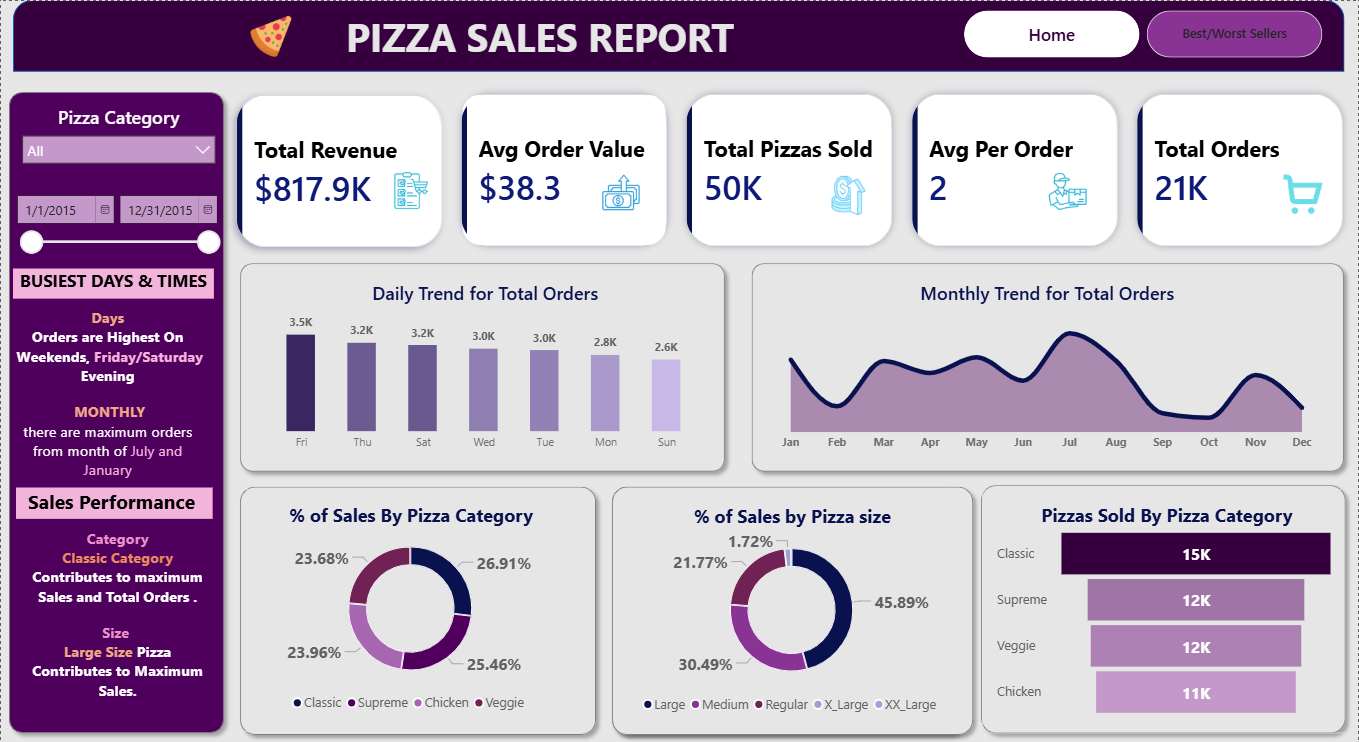

This screenshot's page, from the dashboard's own definition file:
{"tool":"powerbi","page":{"name":"Home","canvas":[1500,820],"ordinal":0},"visuals":[{"type":"shape","box":[0,92.8,255.3,726.1],"z":0},{"type":"shape","box":[255.5,282.1,553.6,248.4],"z":0,"group":"g1"},{"type":"shape","box":[819.8,282.1,672.5,248.4],"z":0,"group":"g2"},{"type":"textbox","box":[12.8,297.2,222.1,33.2],"z":0,"group":"g7"},{"type":"shape","box":[1073.4,526.3,420.7,292.4],"z":0,"group":"g5"},{"type":"shape","box":[254.7,528.2,411.3,292.4],"z":0,"group":"g3"},{"type":"shape","box":[666,528.2,407.5,292.4],"z":0,"group":"g4"},{"type":"shape","box":[666,528.2,416.9,292.4],"z":0,"group":"g6"},{"type":"textbox","box":[16.7,539.2,217.2,34.8],"z":0,"group":"g8"},{"type":"cardVisual","fields":{"Data":["Table.Total Revenue","Table.Avg Order Value","Table.Total Pizzas Sold","Table.Avg Pizzas Per Order","Table.Total Orders"]},"box":[249,92.4,1245.1,190.5],"z":1000},{"type":"columnChart","title":"Daily Trend for Total Orders ","fields":{"Category":["pizza_sales.Day Short"],"Y":["Table.Total Orders"]},"box":[272.5,295.3,525.3,223.7],"z":1000,"group":"g1"},{"type":"stackedAreaChart","title":"Monthly Trend for Total Orders ","fields":{"Category":["pizza_sales.Month Name EN"],"Y":["Table.Total Orders"]},"box":[834.9,295.3,640.2,223.7],"z":1000,"group":"g2"},{"type":"textbox","box":[8.3,340,223.8,191.4],"z":1000,"group":"g7"},{"type":"funnel","title":"Pizzas Sold By Pizza Category ","fields":{"Y":["Table.Total Pizzas Sold"],"Category":["pizza_sales.pizza_category"]},"box":[1083.9,538.9,407.5,269.8],"z":1000,"group":"g5"},{"type":"donutChart","title":"% of Sales By Pizza Category ","fields":{"Category":["pizza_sales.pizza_category"],"Y":["Table.Total Revenue"]},"box":[254.7,539.5,394.6,267.9],"z":1000,"group":"g3"},{"type":"donutChart","title":"% of Sales by Pizza size ","fields":{"Y":["Table.Total Revenue"],"Category":["pizza_sales.pizza_size"]},"box":[685,541,378.7,267.9],"z":1000,"group":"g6"},{"type":"textbox","box":[26,584.6,205,203.7],"z":1000,"group":"g8"},{"type":"shape","box":[13.2,0,1471.5,79.2],"z":2000},{"type":"textbox","box":[381.1,11.3,533.9,56.6],"z":3000},{"type":"image","box":[271.7,17,52.8,47.2],"z":4000},{"type":"group","id":"g1","title":"Group 1","box":[255.5,282.1,553.6,248.4],"z":5000},{"type":"group","id":"g2","title":"Group 2","box":[819.8,282.1,672.5,248.4],"z":6000},{"type":"group","id":"g3","title":"Group 1","box":[254.7,528.2,411.3,292.4],"z":7000},{"type":"group","id":"g4","title":"Group 1","box":[666,528.2,407.5,292.4],"z":8000},{"type":"group","id":"g5","title":"Group 1","box":[1073.4,526.3,420.7,292.4],"z":9000},{"type":"group","id":"g6","title":"Group 1","box":[666,528.2,416.9,292.4],"z":10000},{"type":"group","id":"g7","title":"Group 3","box":[8.3,297.2,226.6,234.2],"z":11000},{"type":"group","id":"g8","title":"Group 3","box":[16.7,539.2,217.2,249.1],"z":12000},{"type":"slicer","title":"Pizza Category","fields":{"Values":["pizza_sales.pizza_category"]},"box":[18.2,116,223.8,72.9],"z":13000},{"type":"slicer","title":"Pizza Category","fields":{"Values":["pizza_sales.order_date"]},"box":[9.9,210.5,235.4,82.9],"z":14000},{"type":"image","box":[1418.7,20.8,41.5,37.7],"z":15000},{"type":"image","box":[1084.8,17,32.1,37.7],"z":16000},{"type":"pageNavigator","box":[1064,11.3,396.2,52.8],"z":17000},{"type":"image","box":[649,188.7,73.6,47.2],"z":18000},{"type":"image","box":[432,188.7,41.5,43.4],"z":19000},{"type":"image","box":[1156.5,169.8,43.4,84.9],"z":20000},{"type":"image","box":[915,177.3,43.4,77.3],"z":21000},{"type":"image","box":[1416.8,188.7,43.4,50.9],"z":22000}]}

Visuals, with their boxes in screenshot pixels (x1, y1, x2, y2), scaled from the page's 1500x820 canvas onto the 1359x742 screenshot:
shape: x1=0, y1=84, x2=231, y2=741
shape: x1=231, y1=255, x2=733, y2=480
shape: x1=743, y1=255, x2=1352, y2=480
textbox: x1=12, y1=269, x2=213, y2=299
shape: x1=973, y1=476, x2=1354, y2=741
shape: x1=231, y1=478, x2=603, y2=741
shape: x1=603, y1=478, x2=973, y2=741
shape: x1=603, y1=478, x2=981, y2=741
textbox: x1=15, y1=488, x2=212, y2=519
cardVisual - Table.Total Revenue x Table.Avg Order Value: x1=226, y1=84, x2=1354, y2=256
"Daily Trend for Total Orders " columnChart: x1=247, y1=267, x2=723, y2=470
"Monthly Trend for Total Orders " stackedAreaChart: x1=756, y1=267, x2=1336, y2=470
textbox: x1=8, y1=308, x2=210, y2=481
"Pizzas Sold By Pizza Category " funnel: x1=982, y1=488, x2=1351, y2=732
"% of Sales By Pizza Category " donutChart: x1=231, y1=488, x2=588, y2=731
"% of Sales by Pizza size " donutChart: x1=621, y1=490, x2=964, y2=732
textbox: x1=24, y1=529, x2=209, y2=713
shape: x1=12, y1=0, x2=1345, y2=72
textbox: x1=345, y1=10, x2=829, y2=61
image: x1=246, y1=15, x2=294, y2=58
"Group 1" group: x1=231, y1=255, x2=733, y2=480
"Group 2" group: x1=743, y1=255, x2=1352, y2=480
"Group 1" group: x1=231, y1=478, x2=603, y2=741
"Group 1" group: x1=603, y1=478, x2=973, y2=741
"Group 1" group: x1=973, y1=476, x2=1354, y2=741
"Group 1" group: x1=603, y1=478, x2=981, y2=741
"Group 3" group: x1=8, y1=269, x2=213, y2=481
"Group 3" group: x1=15, y1=488, x2=212, y2=713
"Pizza Category" slicer: x1=16, y1=105, x2=219, y2=171
"Pizza Category" slicer: x1=9, y1=190, x2=222, y2=265
image: x1=1285, y1=19, x2=1323, y2=53
image: x1=983, y1=15, x2=1012, y2=49
pageNavigator: x1=964, y1=10, x2=1323, y2=58
image: x1=588, y1=171, x2=655, y2=213
image: x1=391, y1=171, x2=429, y2=210
image: x1=1048, y1=154, x2=1087, y2=230
image: x1=829, y1=160, x2=868, y2=230
image: x1=1284, y1=171, x2=1323, y2=217
